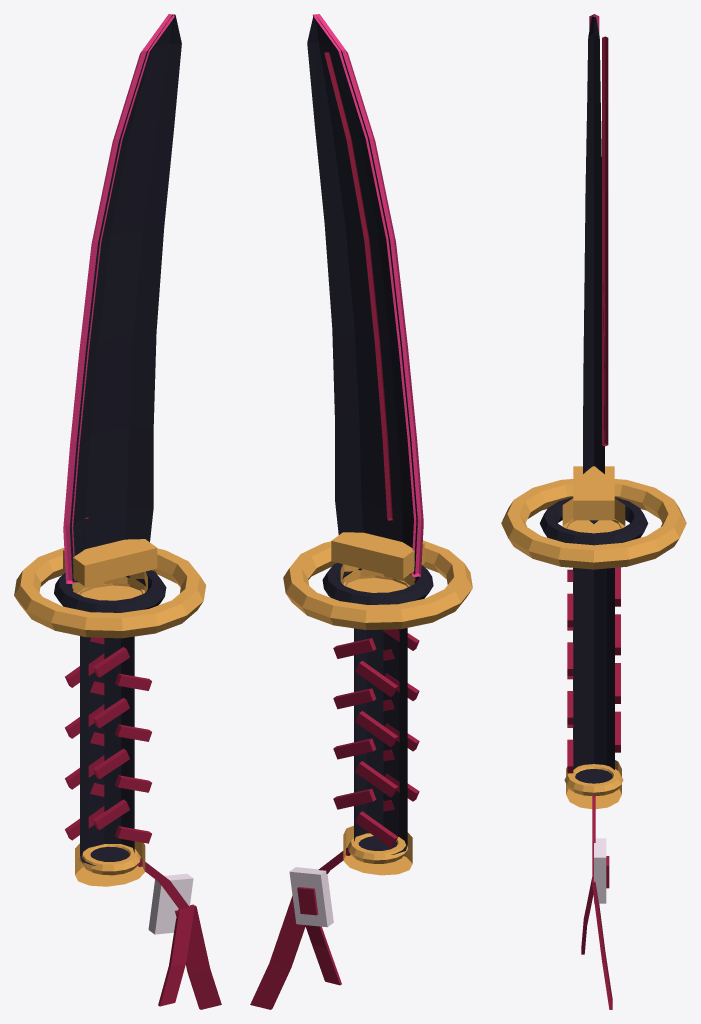
The model's file is weapon_KGB_WPN_Veilblade_Default_GAME_v02.glb.
3 views of the same model, side by side, from view 1: azimuth 30°, elevation 25°; view 2: azimuth 150°, elevation 25°; view 3: azimuth 270°, elevation 25° (orthographic). The views are drawn at different scales.
Visible parts, largest first — view 1: KGB_WPN_Veilblade_Default_GAME_v02; view 2: KGB_WPN_Veilblade_Default_GAME_v02; view 3: KGB_WPN_Veilblade_Default_GAME_v02.
Part boxes in pixels (box(x1,y1,x2,y2)): KGB_WPN_Veilblade_Default_GAME_v02: box(14, 14, 221, 1009); KGB_WPN_Veilblade_Default_GAME_v02: box(250, 14, 472, 1009); KGB_WPN_Veilblade_Default_GAME_v02: box(501, 14, 686, 1009).
Size of the model in its own units: 1.85 by 8.73 by 1.52.
